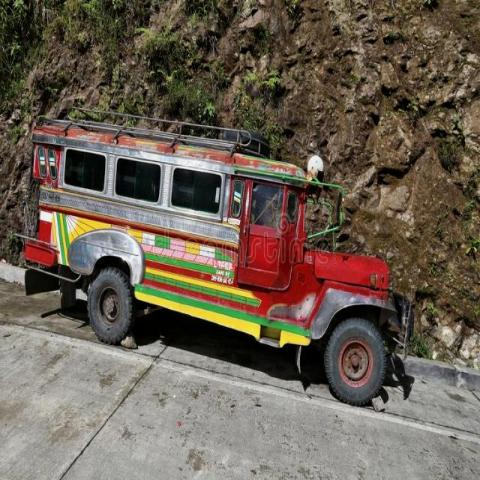jeepney: (26, 100, 422, 426)
